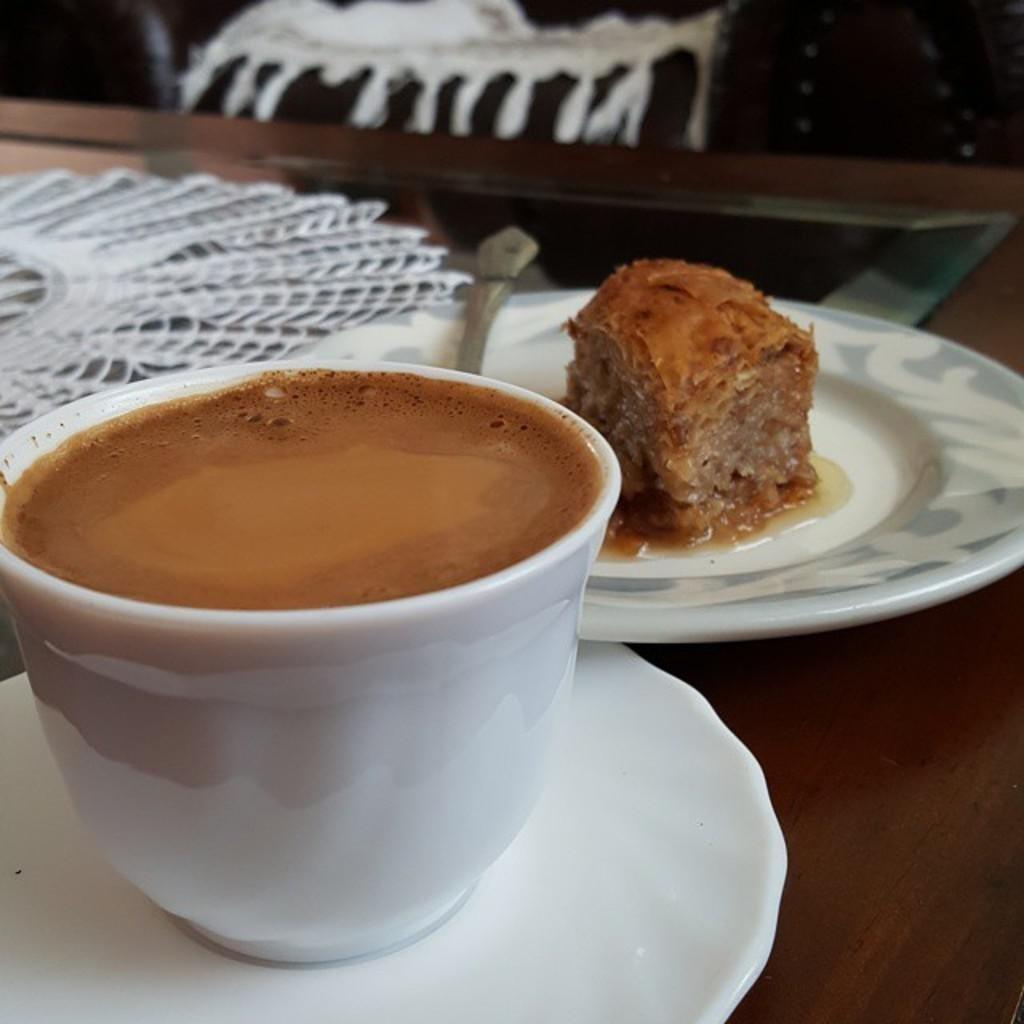cup-handle: (0, 356, 624, 971)
